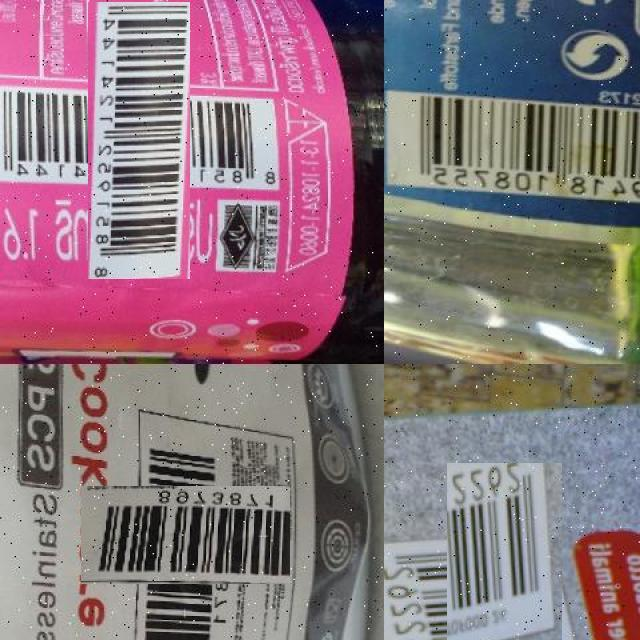Barcode: (44, 45, 234, 235), (385, 93, 640, 212), (416, 493, 594, 640), (109, 458, 263, 612)
